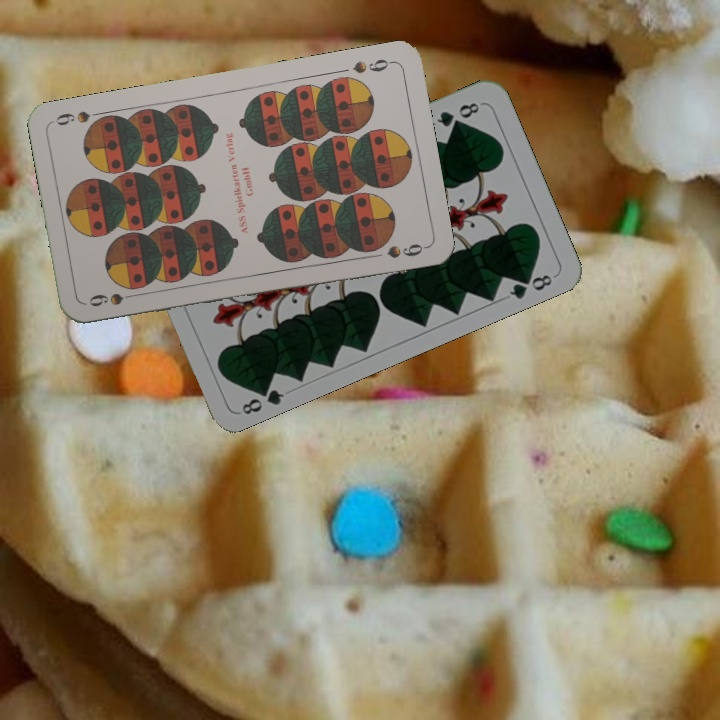G8: (237, 380, 287, 418), (432, 98, 482, 130)
S9: (84, 288, 142, 310), (349, 55, 396, 76)
